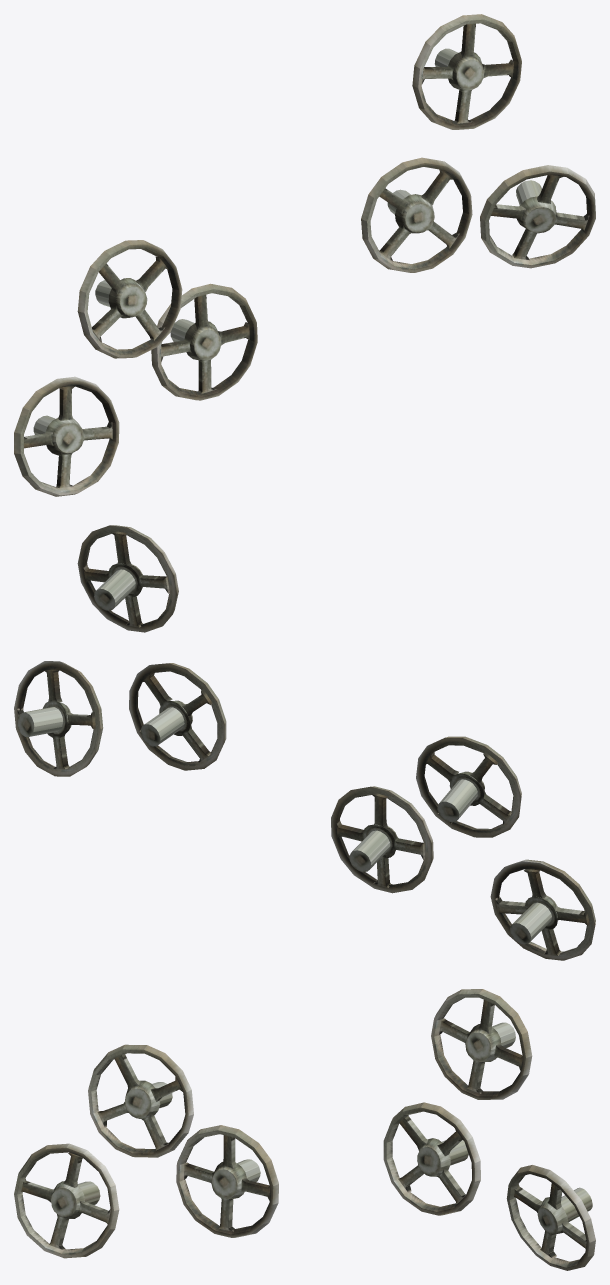
File: Corridor_01_11.fbx
3 views of the same model, one above another, from view 1: azimuth 30°, elevation 25°; view 2: azimuth 150°, elevation 25°; view 3: azimuth 330°, elevation 25° (orthographic). The views are drawn at different scales.
Visible parts, largest first — view 1: Corridor_01_11; view 2: Corridor_01_11; view 3: Corridor_01_11.
Part boxes in pixels (x1,y1,x2,y2): Corridor_01_11: [14, 14, 595, 496]; Corridor_01_11: [14, 525, 595, 960]; Corridor_01_11: [14, 989, 595, 1270].
Size of the model in its own units: 138 by 81.01 by 19.29.
